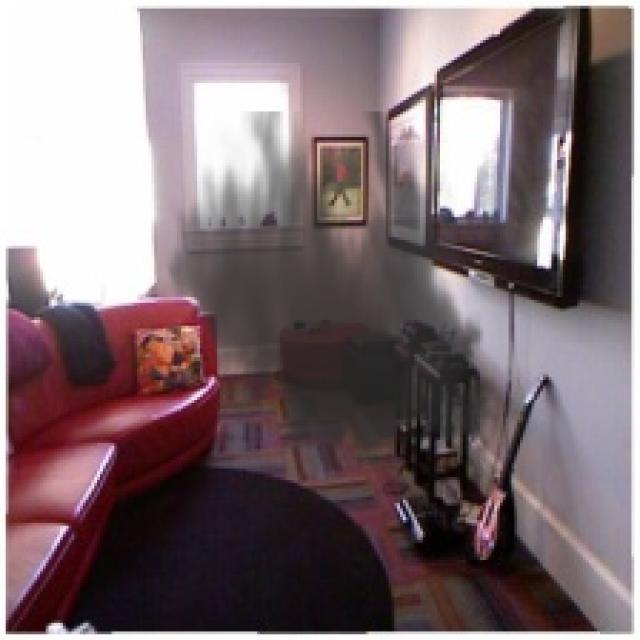smoke: (157, 112, 509, 477)
